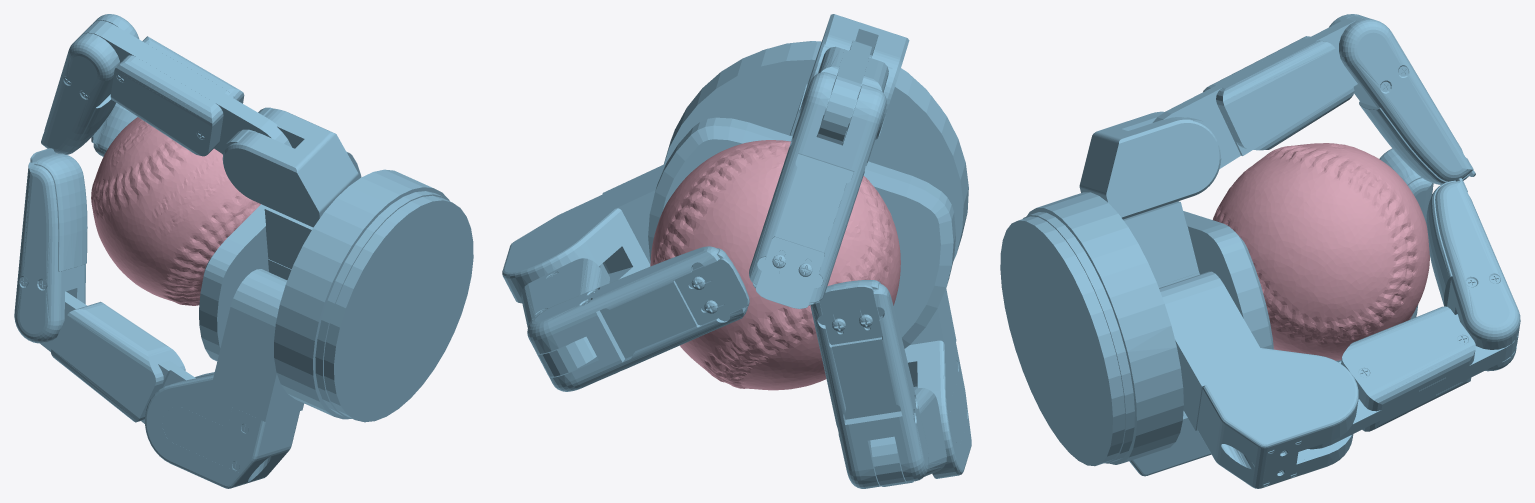
The picture shows the model from 3 angles, left to right: view 1: azimuth 30°, elevation 25°; view 2: azimuth 150°, elevation 25°; view 3: azimuth 270°, elevation 25°; orthographic projection. The views are drawn at different scales.
Visible parts, largest first — view 1: world; view 2: world; view 3: world.
Boxes of the visible parts, bbox=[...] form: world: bbox=[14, 14, 473, 488]; world: bbox=[502, 14, 971, 488]; world: bbox=[1000, 14, 1520, 488].
Size of the model in its own units: 0.1609 by 0.1569 by 0.1715.
